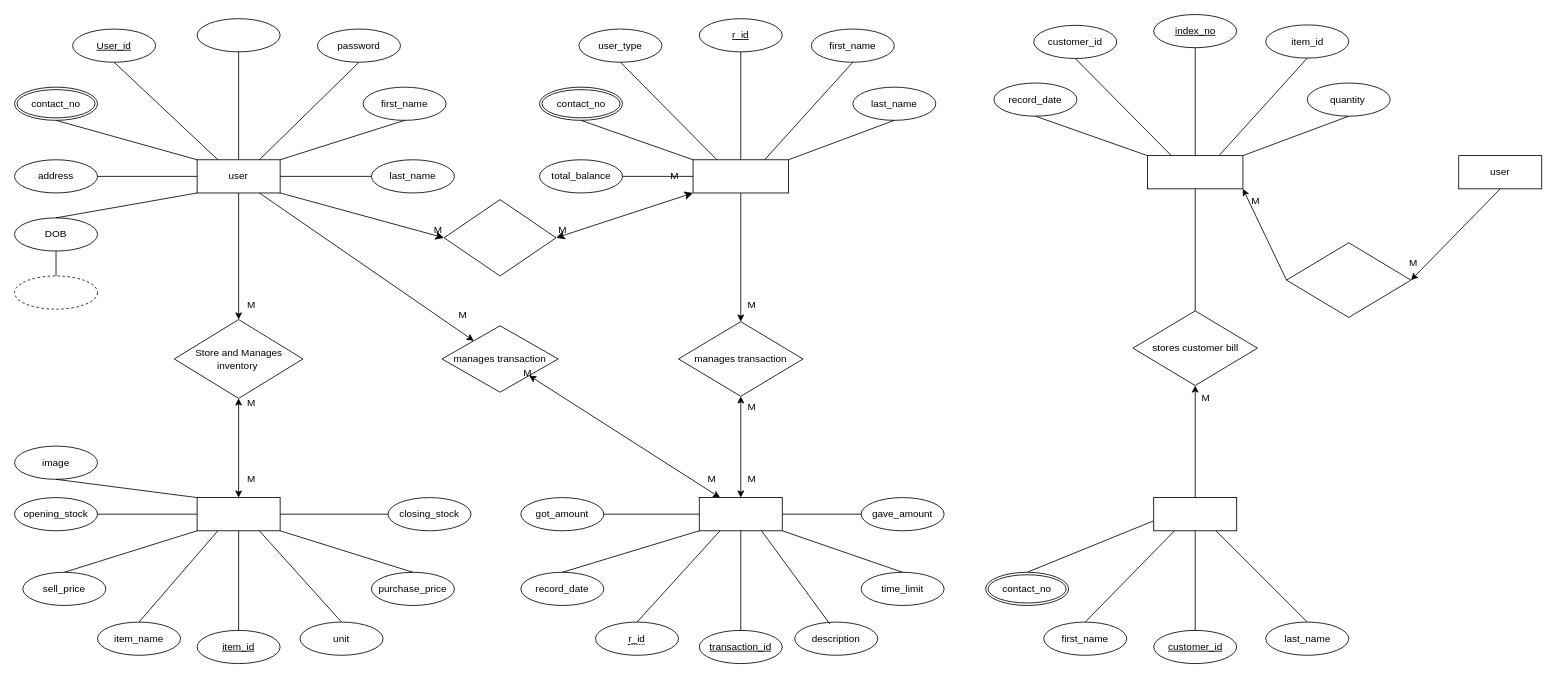
This 1556x678 diagram has some shape labels left out. The shapes that lost their labels are listed below. From the top down, each one's centre as x and y in pixels, then its label:
At pixel 238 35: "email_id".
At pixel 740 176: "record_user".
At pixel 1195 172: "bill_history".
At pixel 499 237: "Store and Manage data".
At pixel 56 292: "Age".
At pixel 1348 279: "Generate customer bill".
At pixel 238 514: "item".
At pixel 740 514: "transaction".
At pixel 1195 514: "Bill_customer".
